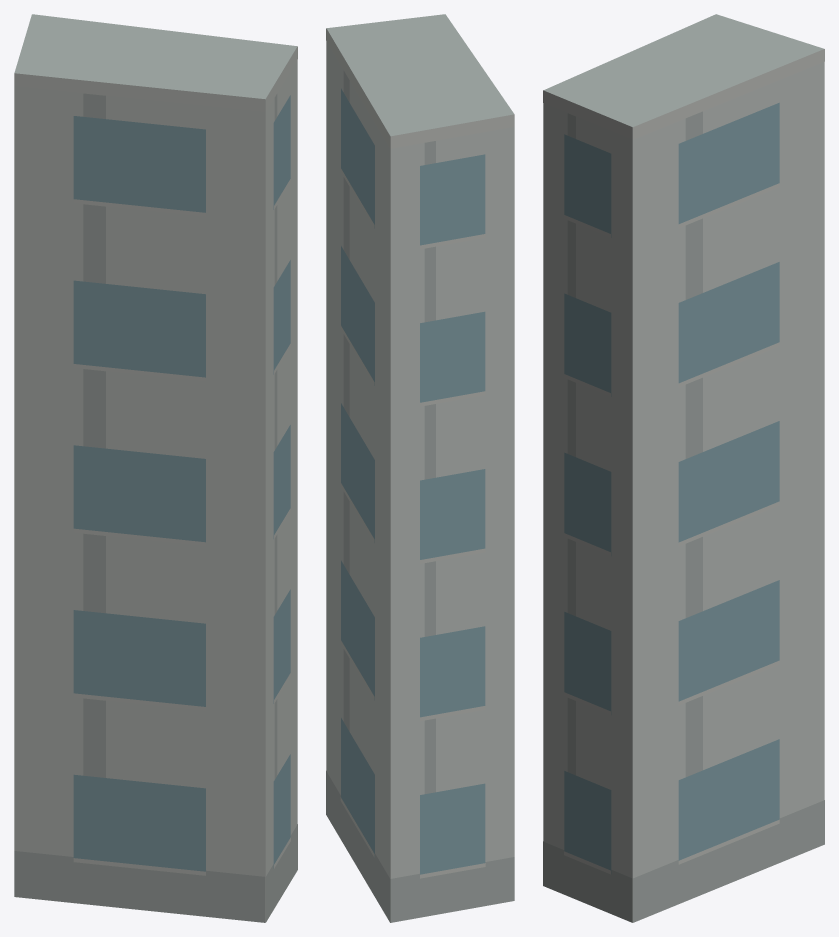
File: survey-upis-32645700.glb
3 views of the same model, side by side, from view 1: azimuth 30°, elevation 25°; view 2: azimuth 150°, elevation 25°; view 3: azimuth 270°, elevation 25° (orthographic). The views are drawn at different scales.
Parts seen in each view (by area): view 1: survey-upis-32645700.tmp; view 2: survey-upis-32645700.tmp; view 3: survey-upis-32645700.tmp.
Part boxes in pixels (bbox=[...]): survey-upis-32645700.tmp: bbox=[14, 14, 297, 922]; survey-upis-32645700.tmp: bbox=[326, 14, 514, 922]; survey-upis-32645700.tmp: bbox=[543, 14, 824, 922].
Bounding box in the file's own units: 4.66 × 15.25 × 4.89.
